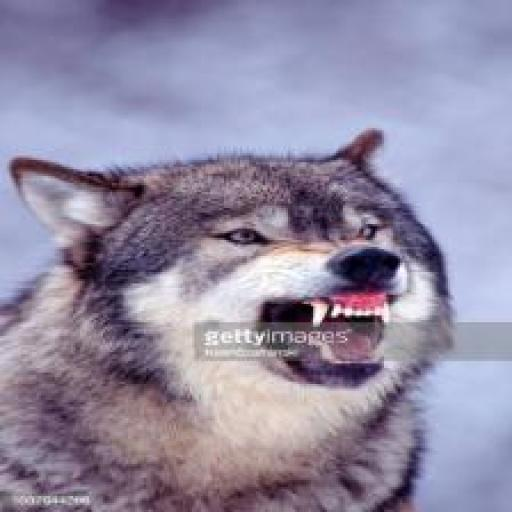wolf: (0, 116, 473, 512)
